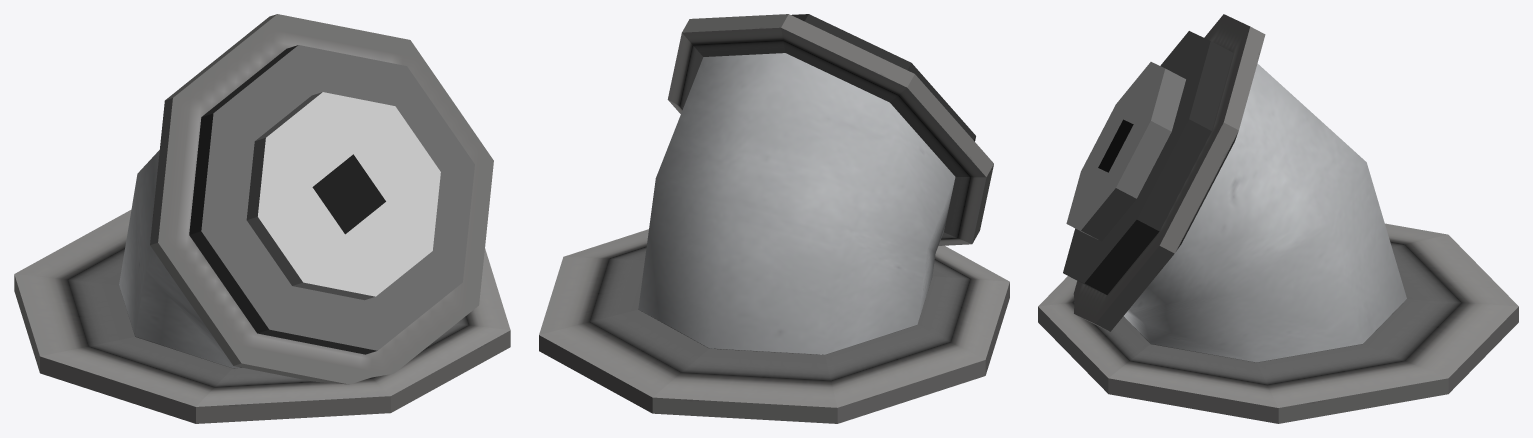
The picture shows the model from 3 angles, left to right: view 1: azimuth 30°, elevation 25°; view 2: azimuth 150°, elevation 25°; view 3: azimuth 270°, elevation 25°; orthographic projection. The views are drawn at different scales.
Visible parts, largest first — view 1: zhuti.II.010; view 2: zhuti.II.010; view 3: zhuti.II.010.
Boxes of the visible parts, left/top/right/bottom form: zhuti.II.010: left=14, top=14, right=510, bottom=423; zhuti.II.010: left=539, top=14, right=1009, bottom=423; zhuti.II.010: left=1038, top=14, right=1518, bottom=423.
Bounding box in the file's own units: 10.82 × 7.35 × 10.82.
Materials: 1 (1 with a texture image).
